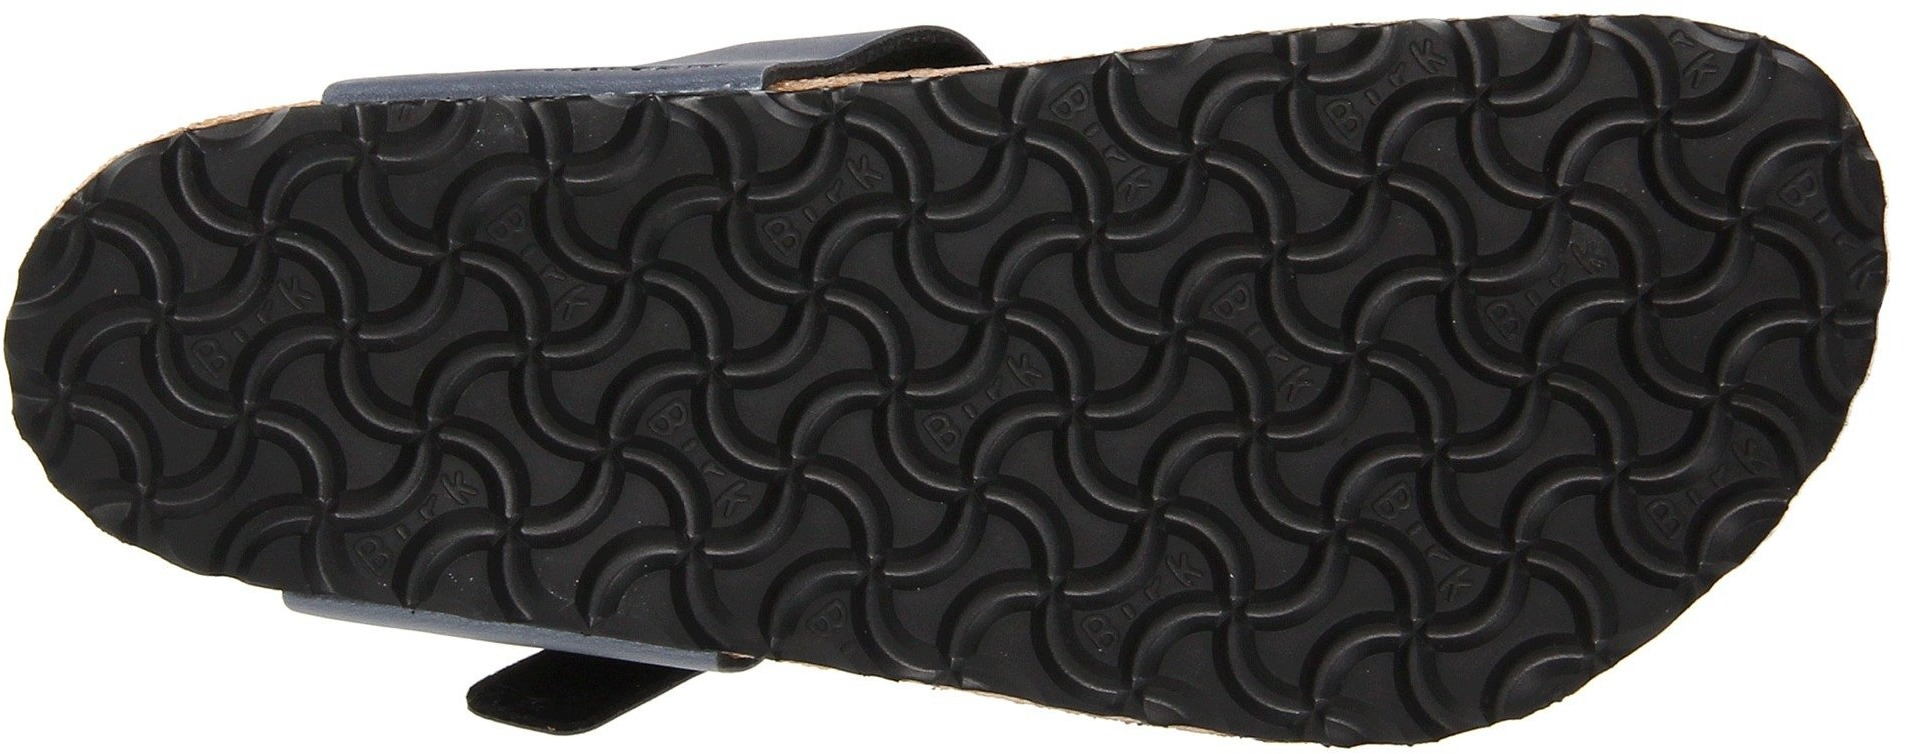bowtie: (1365, 24, 1756, 413), (400, 119, 751, 441), (83, 196, 395, 518), (1075, 384, 1353, 694), (1072, 69, 1350, 378), (759, 97, 1065, 377), (757, 384, 1068, 658), (1361, 424, 1615, 660)
text: (1365, 24, 1756, 413), (400, 119, 751, 441), (83, 196, 395, 518), (1075, 384, 1353, 694), (1072, 69, 1350, 378), (759, 97, 1065, 377), (757, 384, 1068, 658), (1361, 424, 1615, 660)
